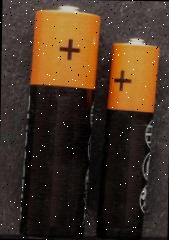electronic: (23, 0, 97, 240)
